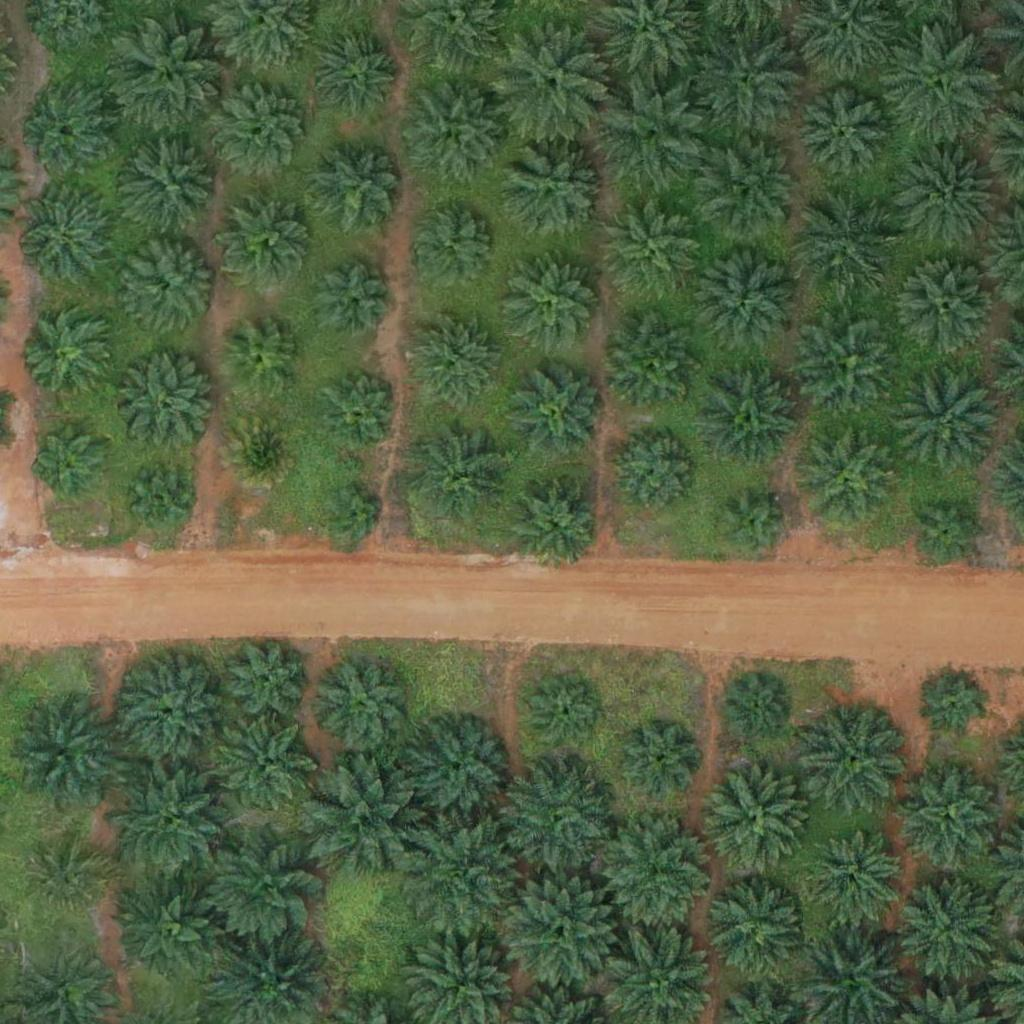Kelapa_Sawit: (107, 754, 232, 880), (202, 824, 327, 950), (299, 757, 424, 883), (402, 816, 527, 942), (689, 19, 802, 132), (600, 816, 713, 929), (503, 872, 615, 986), (885, 28, 997, 141), (598, 75, 710, 188), (496, 24, 608, 137), (117, 26, 229, 139), (116, 876, 228, 989), (498, 757, 610, 870), (896, 145, 996, 246), (897, 258, 997, 359), (897, 367, 997, 468), (796, 190, 896, 291), (798, 316, 898, 417), (798, 428, 898, 529), (704, 140, 804, 241), (698, 248, 798, 349), (699, 370, 799, 471), (605, 197, 705, 298), (604, 314, 704, 415), (503, 139, 603, 240), (502, 255, 602, 356), (406, 83, 506, 184), (117, 657, 217, 758), (705, 766, 805, 867), (704, 881, 804, 982), (807, 707, 907, 808), (801, 828, 901, 929), (898, 764, 998, 865), (898, 876, 998, 977), (505, 472, 605, 572), (411, 422, 511, 522), (211, 79, 311, 179), (121, 236, 221, 336), (117, 354, 217, 454), (216, 714, 316, 814), (406, 720, 506, 820), (610, 428, 698, 516), (224, 199, 312, 287), (127, 139, 215, 227), (798, 92, 885, 180), (515, 368, 602, 456), (409, 199, 496, 287), (411, 311, 498, 399), (308, 29, 395, 117), (314, 148, 401, 236), (30, 88, 117, 176), (21, 194, 108, 282), (27, 313, 114, 401), (222, 635, 309, 723), (316, 661, 403, 749), (224, 324, 299, 400), (314, 263, 389, 339), (527, 678, 602, 754), (716, 487, 791, 563), (321, 372, 396, 448), (225, 413, 300, 489), (123, 462, 198, 538), (31, 841, 106, 916), (624, 722, 699, 797), (912, 495, 987, 570), (33, 421, 108, 496), (725, 676, 788, 739), (323, 485, 385, 548), (925, 674, 987, 737)
